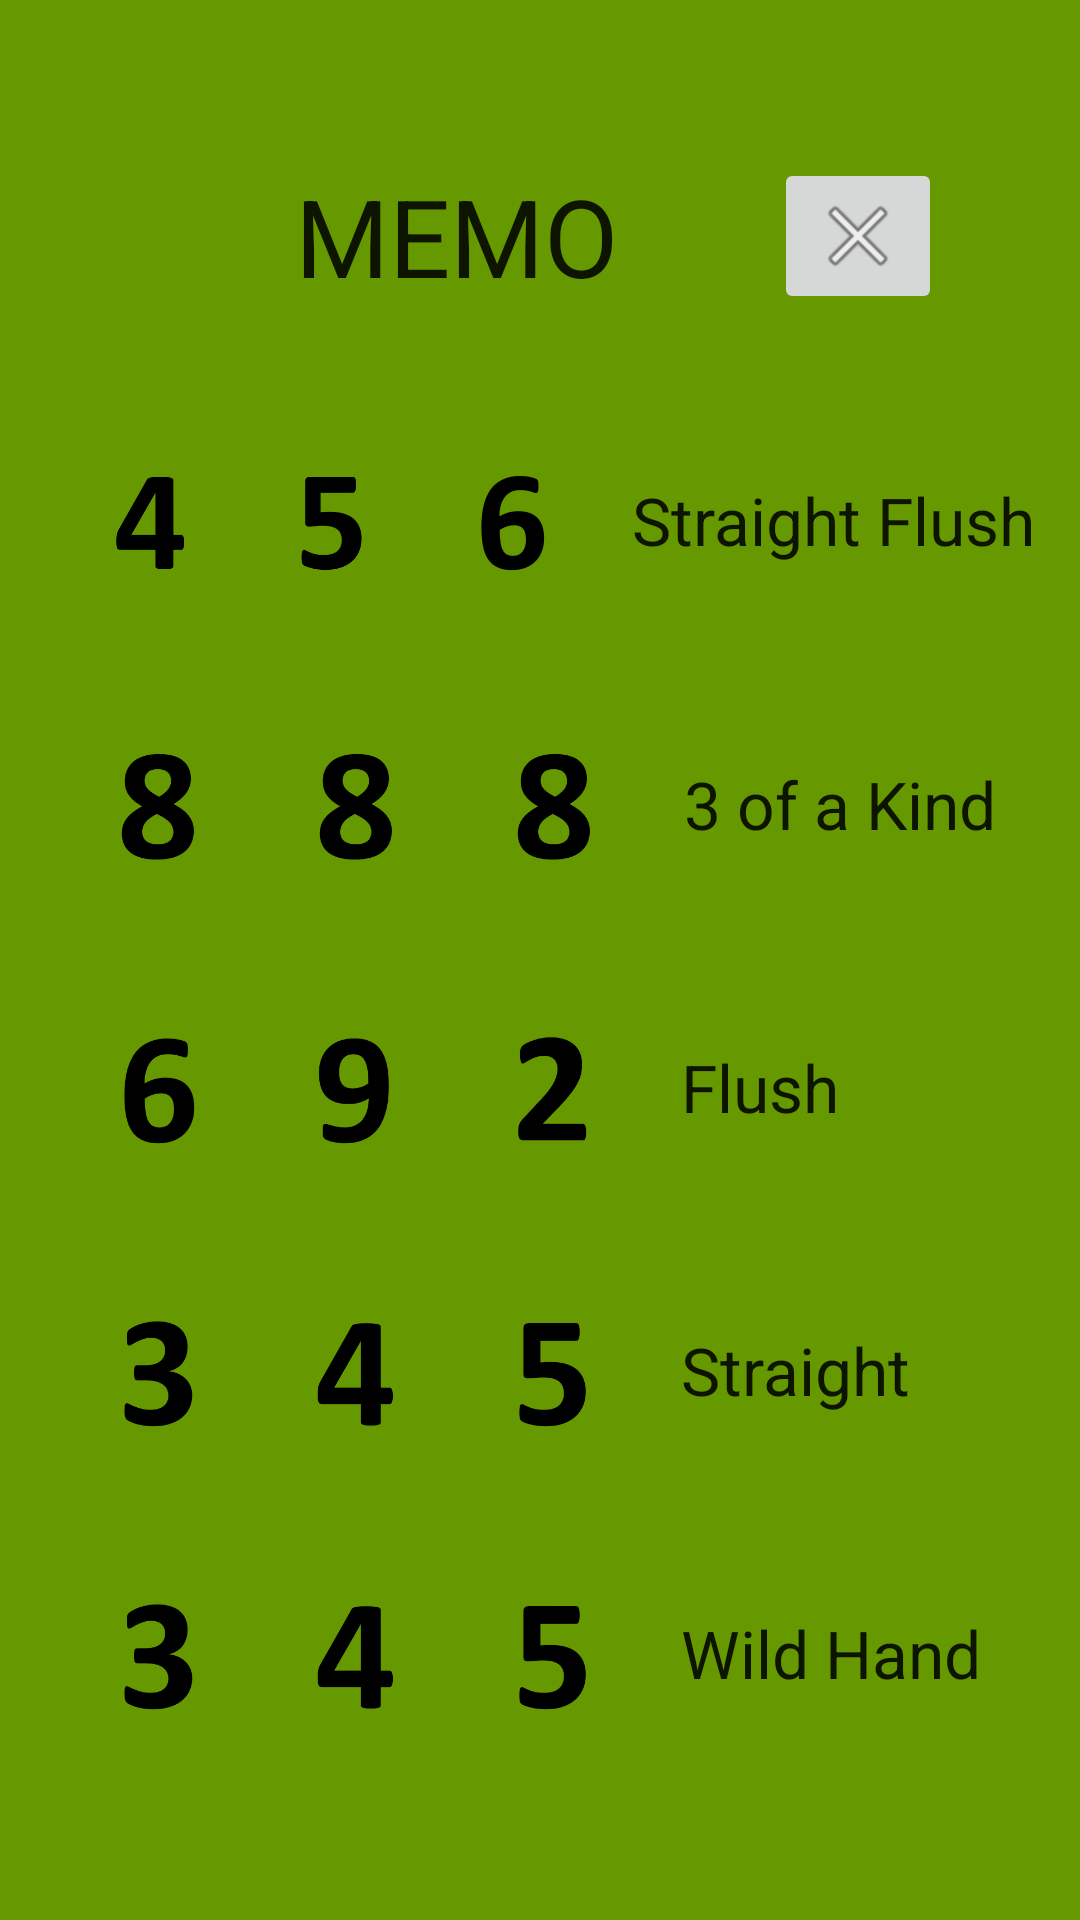

Icons on this 1080px×1920px Android screen, each with its box as (x1, y1, x2, y2):
close clear cancel: (786, 176, 930, 296)
